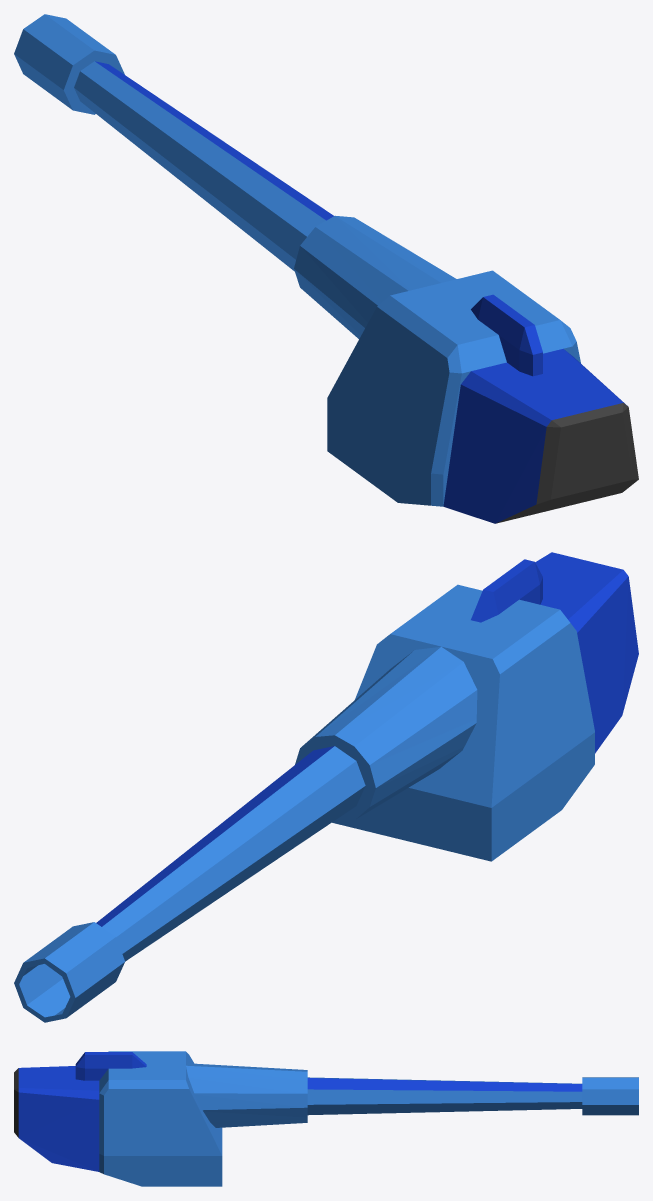
Rendered from robbot5.FBX.
The picture shows the model from 3 angles, top to bottom: view 1: azimuth 30°, elevation 25°; view 2: azimuth 150°, elevation 25°; view 3: azimuth 270°, elevation 25°; orthographic projection. The views are drawn at different scales.
Parts seen in each view (by area): view 1: VIFS001, VIFS002, VIFS003; view 2: VIFS001, VIFS002; view 3: VIFS001, VIFS002, VIFS003.
Boxes of the visible parts, x1,y1,x2,y2 form: VIFS001: [14, 14, 580, 506]; VIFS002: [95, 61, 627, 523]; VIFS003: [496, 403, 638, 523]; VIFS001: [14, 584, 594, 1022]; VIFS002: [96, 552, 638, 926]; VIFS001: [99, 1051, 638, 1186]; VIFS002: [18, 1052, 582, 1171]; VIFS003: [14, 1068, 18, 1137].
Size of the model in its own units: 0.16 by 0.18 by 0.924.
